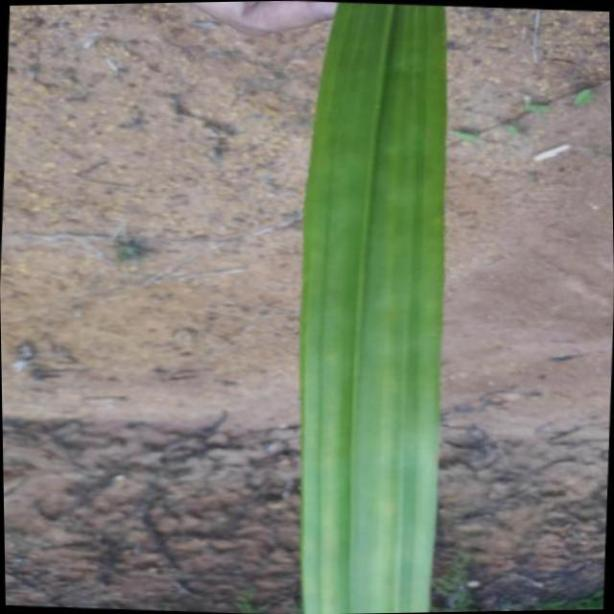nitrogen: (299, 0, 451, 603)
